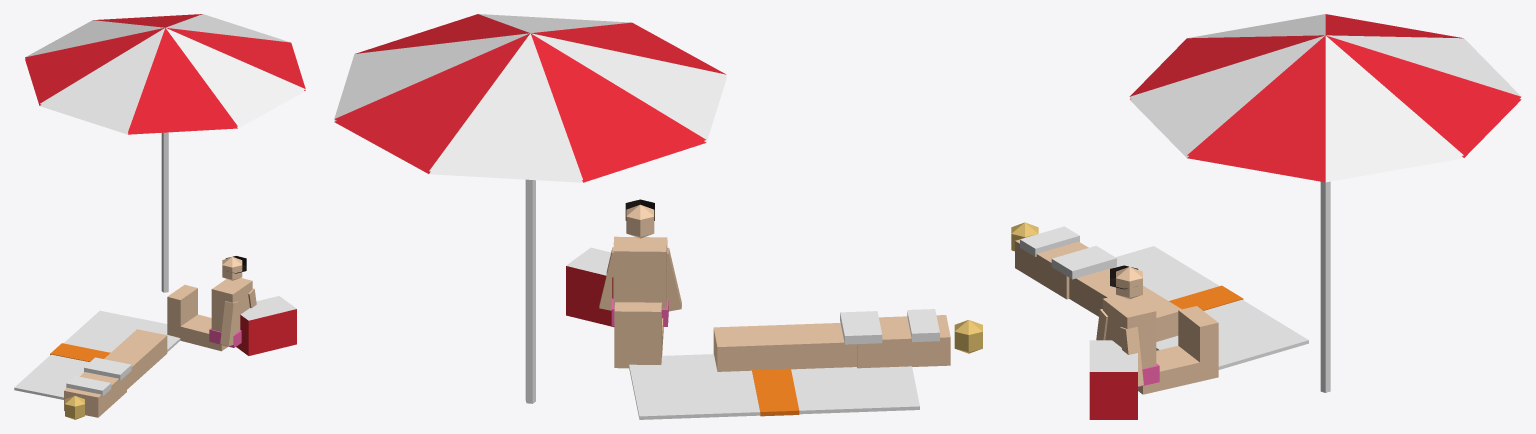
File: playa_grupo_7.obj
3 views of the same model, side by side, from view 1: azimuth 30°, elevation 25°; view 2: azimuth 150°, elevation 25°; view 3: azimuth 270°, elevation 25° (orthographic). The views are drawn at different scales.
Parts seen in each view (by area): view 1: playa_grupo_7; view 2: playa_grupo_7; view 3: playa_grupo_7.
Part boxes in pixels (x1,y1,x2,y2): playa_grupo_7: (14,14,305,419); playa_grupo_7: (334,14,982,419); playa_grupo_7: (1011,14,1521,419).
Bounding box in the file's own units: 3.52 × 2.6 × 3.38.
